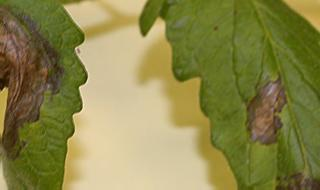Tomato leaf late blight: (134, 0, 320, 190), (0, 0, 100, 190)
